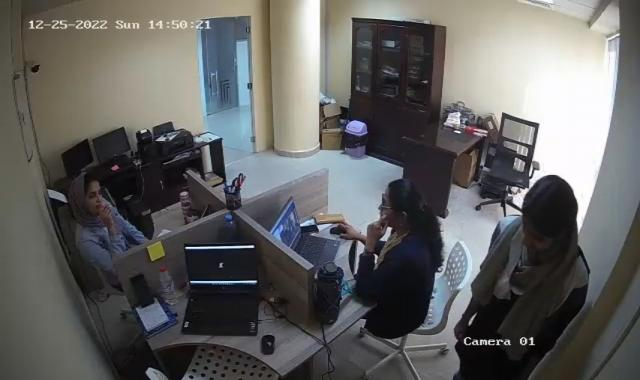no_hairnet: (520, 173, 580, 249), (385, 180, 421, 221), (69, 173, 102, 216)
